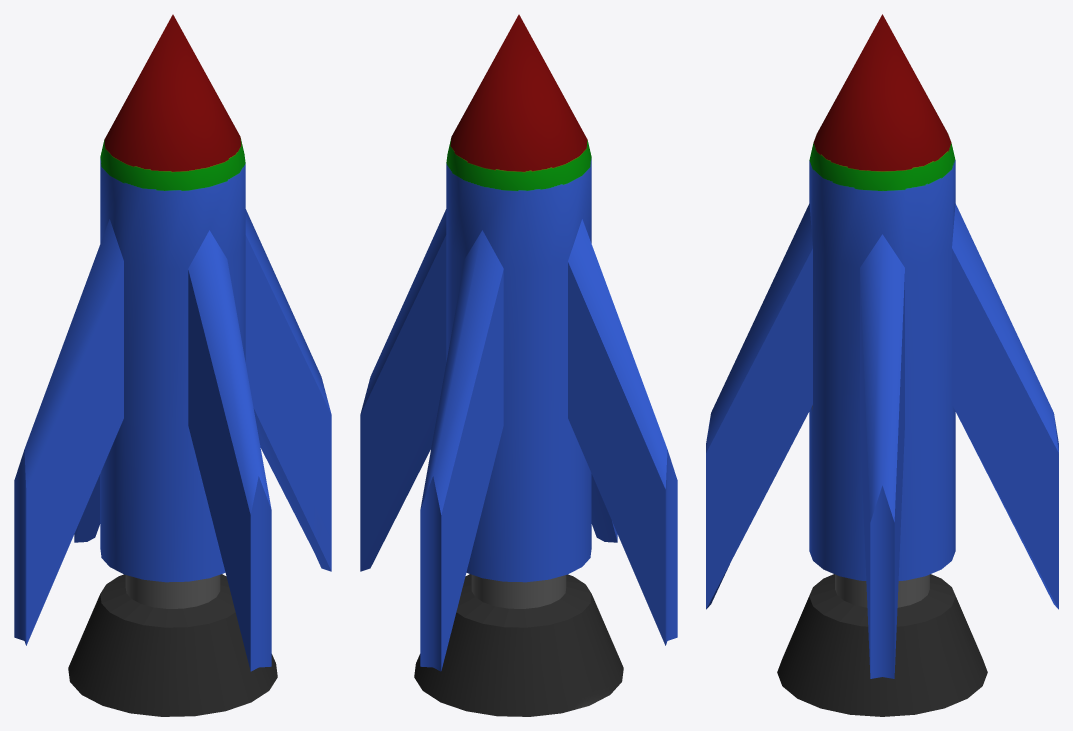
Rendered from Rocket.obj.
3 views of the same model, side by side, from view 1: azimuth 30°, elevation 25°; view 2: azimuth 150°, elevation 25°; view 3: azimuth 270°, elevation 25° (orthographic).
Visible parts, largest first — view 1: pCylinder1_Untitled; view 2: pCylinder1_Untitled; view 3: pCylinder1_Untitled.
Part boxes in pixels (<box>): pCylinder1_Untitled: <box>14,14,331,716</box>; pCylinder1_Untitled: <box>360,14,677,716</box>; pCylinder1_Untitled: <box>706,14,1058,716</box>.
Bounding box in the file's own units: 4.83 × 9.94 × 4.83.
